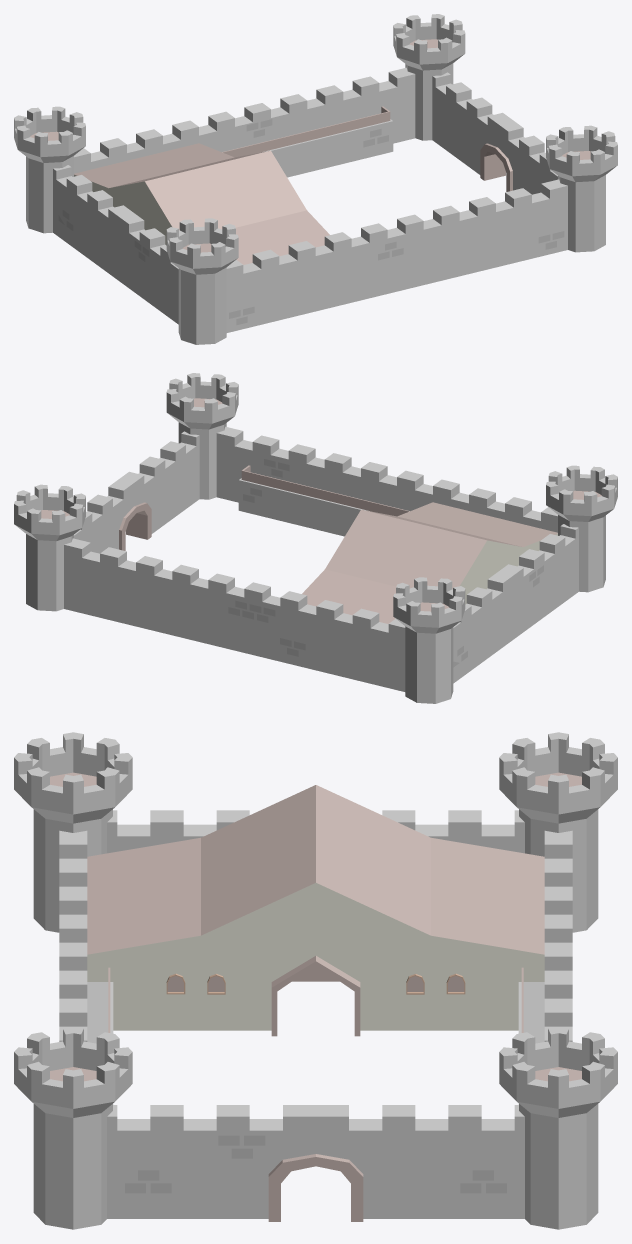
The model's file is Castle.fbx.
3 views of the same model, one above another, from view 1: azimuth 30°, elevation 25°; view 2: azimuth 150°, elevation 25°; view 3: azimuth 270°, elevation 25° (orthographic). The views are drawn at different scales.
Parts seen in each view (by area): view 1: Castle; view 2: Castle; view 3: Castle.
Boxes of the visible parts, <box> form: Castle: <box>14,14,617,344</box>; Castle: <box>14,373,617,703</box>; Castle: <box>14,732,617,1229</box>.
Size of the model in its own units: 43.68 by 9.53 by 32.36.
